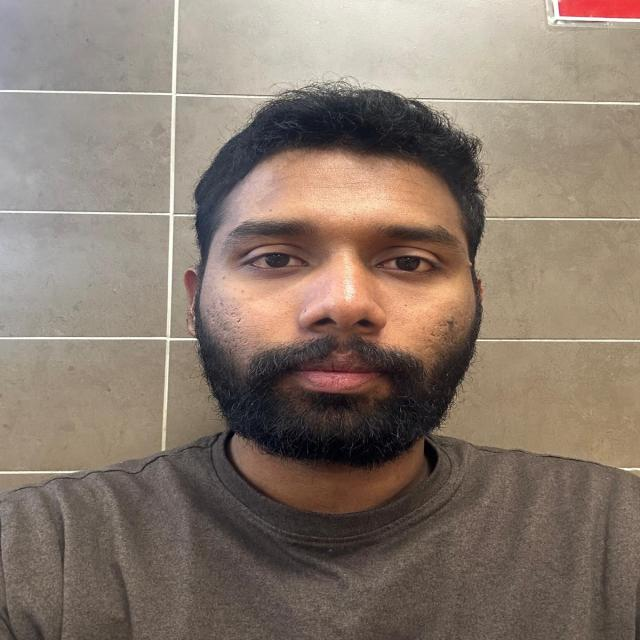nocap: (152, 86, 529, 233)
